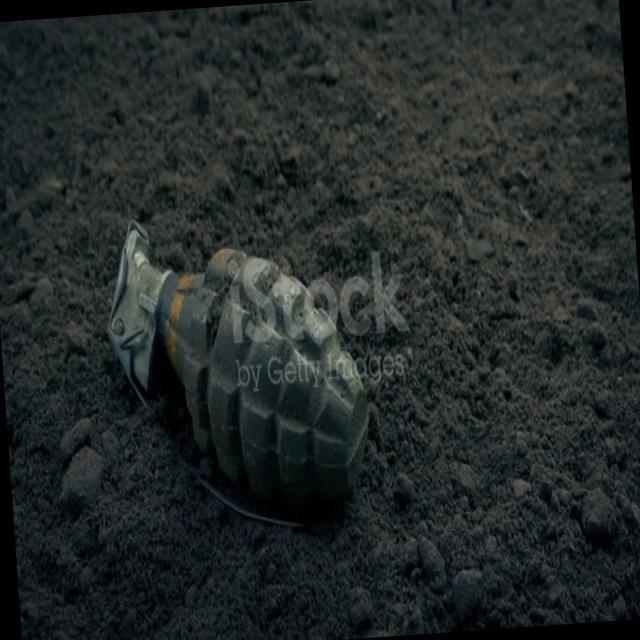grenade: (98, 210, 380, 544)
